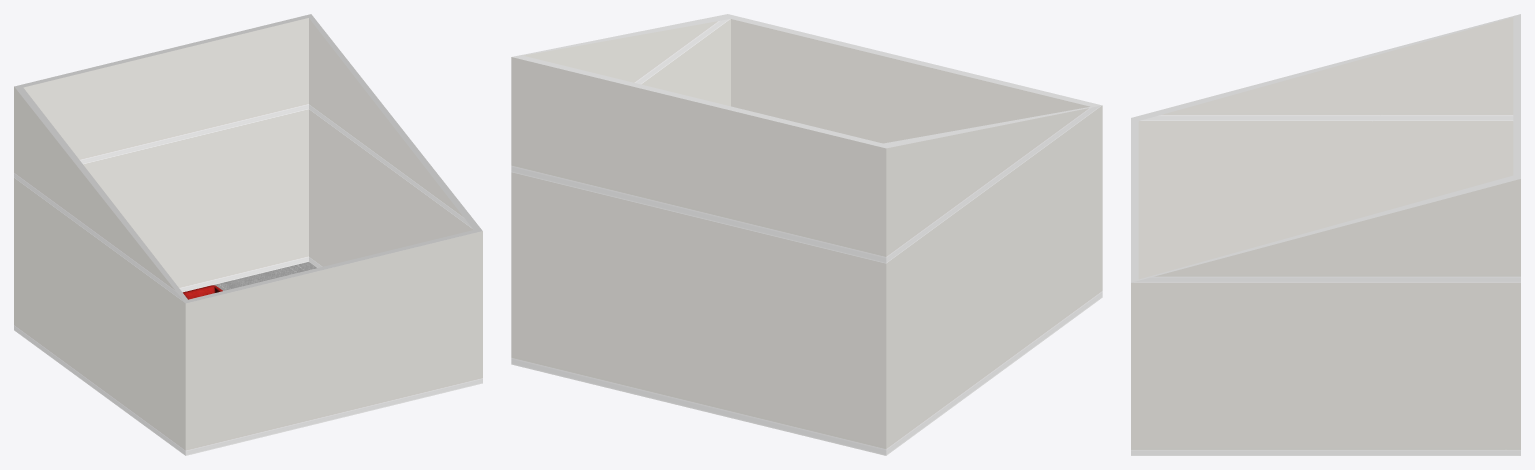
3 renders of one model, left to right at view 1: azimuth 30°, elevation 25°; view 2: azimuth 150°, elevation 25°; view 3: azimuth 270°, elevation 25°, orthographic. The views are drawn at different scales.
Parts seen in each view (by area): view 1: wall (×4), object 5, object 17, object 11, object 23, object 1; view 2: wall (×4), object 11, object 23, object 5, object 17; view 3: wall (×2), object 17, object 5, object 23, object 11.
Part boxes in pixels (left/top/right/bottom): wall (×4): left=14, top=18, right=482, bottom=455; object 5: left=14, top=86, right=187, bottom=303; object 17: left=309, top=14, right=482, bottom=230; object 11: left=186, top=230, right=481, bottom=303; object 23: left=14, top=14, right=310, bottom=87; object 1: left=213, top=262, right=316, bottom=290; wall (×4): left=511, top=19, right=1102, bottom=455; object 11: left=728, top=14, right=1101, bottom=106; object 23: left=512, top=55, right=885, bottom=148; object 5: left=883, top=105, right=1099, bottom=148; object 17: left=512, top=14, right=730, bottom=56; wall (×2): left=1131, top=17, right=1520, bottom=455; object 17: left=1132, top=175, right=1520, bottom=282; object 5: left=1131, top=14, right=1519, bottom=120; object 23: left=1513, top=14, right=1520, bottom=178; object 11: left=1131, top=118, right=1138, bottom=282.
Bounding box in the file's own units: 510 × 400 × 510.
27 materials, 10 textured.
